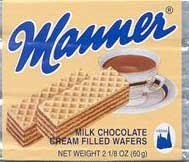grozi_69: (0, 0, 188, 162)
